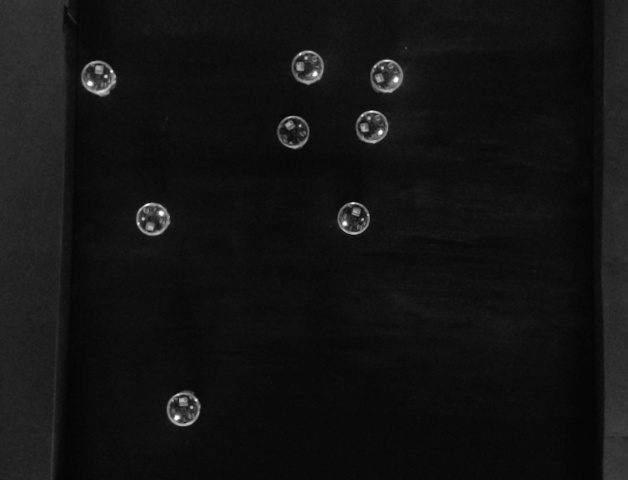epuck_2: (134, 199, 171, 237), (286, 51, 325, 86), (80, 61, 117, 96), (352, 108, 389, 143), (367, 56, 401, 93), (166, 391, 200, 428), (276, 117, 311, 149), (337, 201, 370, 234)
